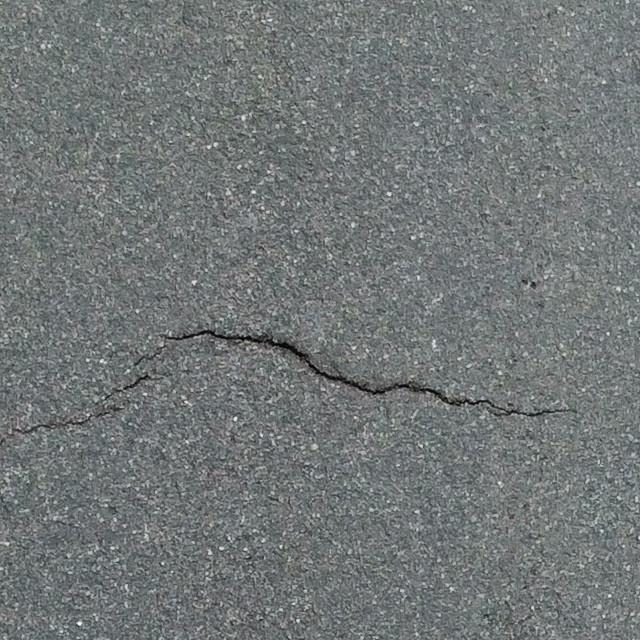TransverseCrack: (10, 330, 579, 437)
